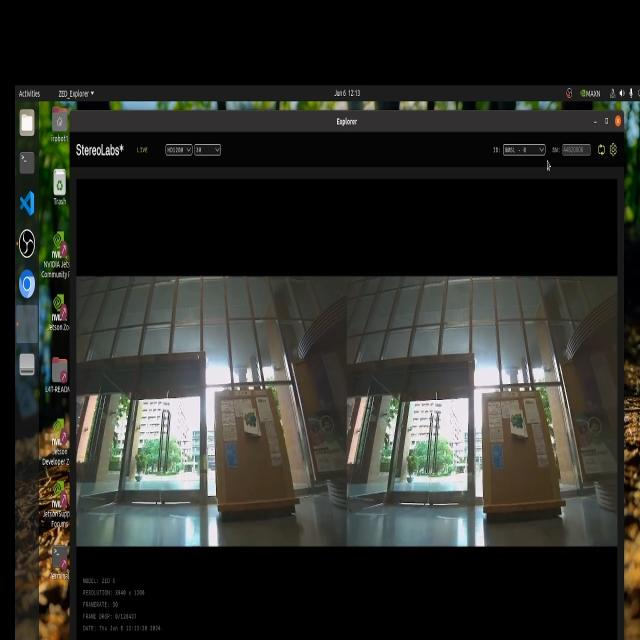green: (242, 414, 260, 434), (510, 409, 521, 435)
